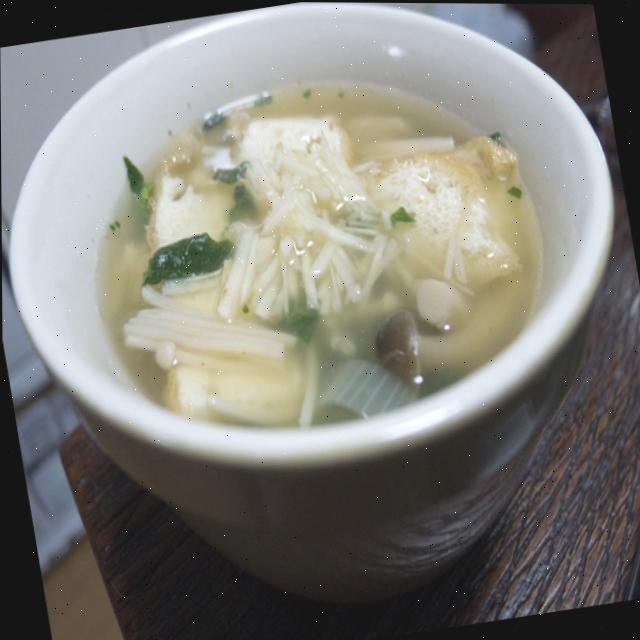汤锅炖物: (43, 6, 608, 497)
